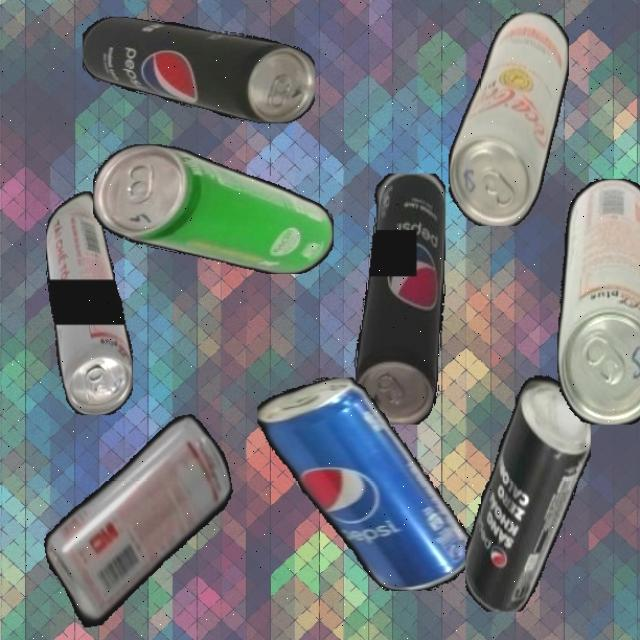debris: (27, 410, 251, 632), (256, 377, 474, 591), (93, 143, 334, 274), (464, 368, 591, 612), (447, 11, 569, 226), (82, 17, 314, 123), (354, 172, 446, 424), (556, 178, 640, 424), (45, 190, 133, 415)
